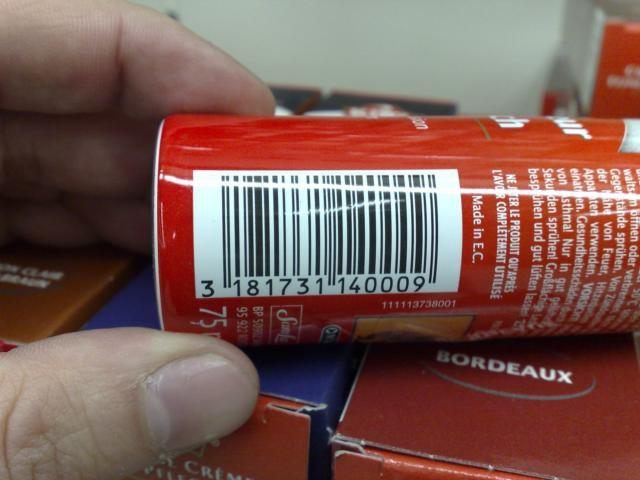Barcode: (193, 173, 460, 302)
